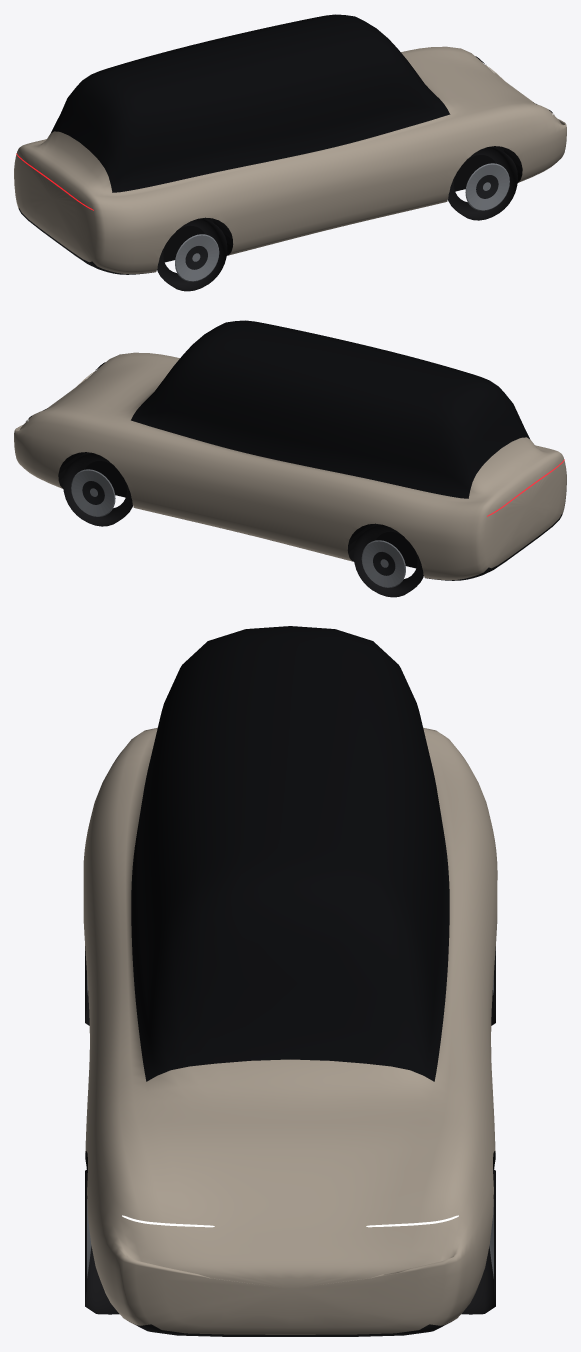
The model's file is van.glb.
3 renders of one model, top to bottom at view 1: azimuth 30°, elevation 25°; view 2: azimuth 150°, elevation 25°; view 3: azimuth 270°, elevation 25°, orthographic. The views are drawn at different scales.
Parts seen in each view (by area): view 1: van_Body, van_Wheels; view 2: van_Body, van_Wheels; view 3: van_Body, van_Wheels.
Boxes of the visible parts, left/top/right/bottom form: van_Body: left=14, top=14, right=566, bottom=274; van_Wheels: left=157, top=146, right=517, bottom=291; van_Body: left=14, top=320, right=566, bottom=580; van_Wheels: left=63, top=452, right=423, bottom=597; van_Body: left=83, top=626, right=497, bottom=1336; van_Wheels: left=85, top=889, right=495, bottom=1314.
Size of the model in its own units: 5.28 by 1.94 by 1.97.
